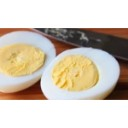begg: (43, 48, 119, 99), (1, 33, 41, 90)
